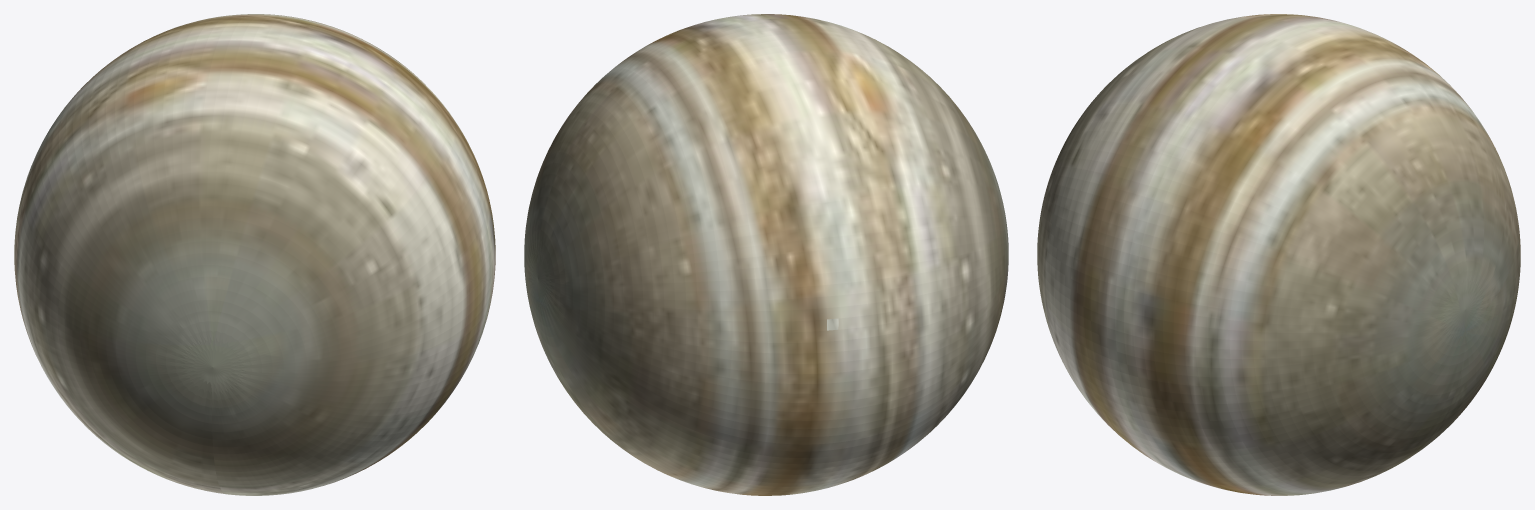
File: jupiter.obj
3 views of the same model, side by side, from view 1: azimuth 30°, elevation 25°; view 2: azimuth 150°, elevation 25°; view 3: azimuth 270°, elevation 25° (orthographic).
Visible parts, largest first — view 1: Sphere; view 2: Sphere; view 3: Sphere.
Part boxes in pixels (x1,y1,x2,y2): Sphere: [14, 14, 495, 495]; Sphere: [524, 14, 1008, 495]; Sphere: [1037, 14, 1520, 495].
Bounding box in the file's own units: 12.61 × 12.58 × 12.62.
Materials: 1 (1 with a texture image).
